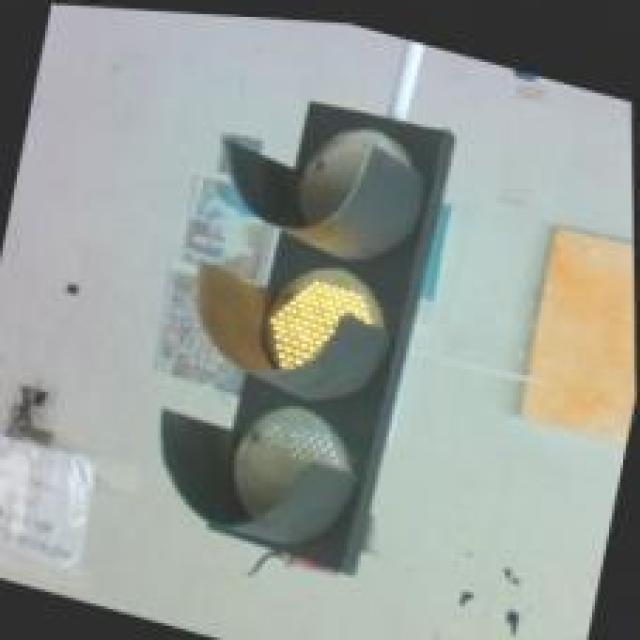yellow_light: (159, 100, 452, 571)
